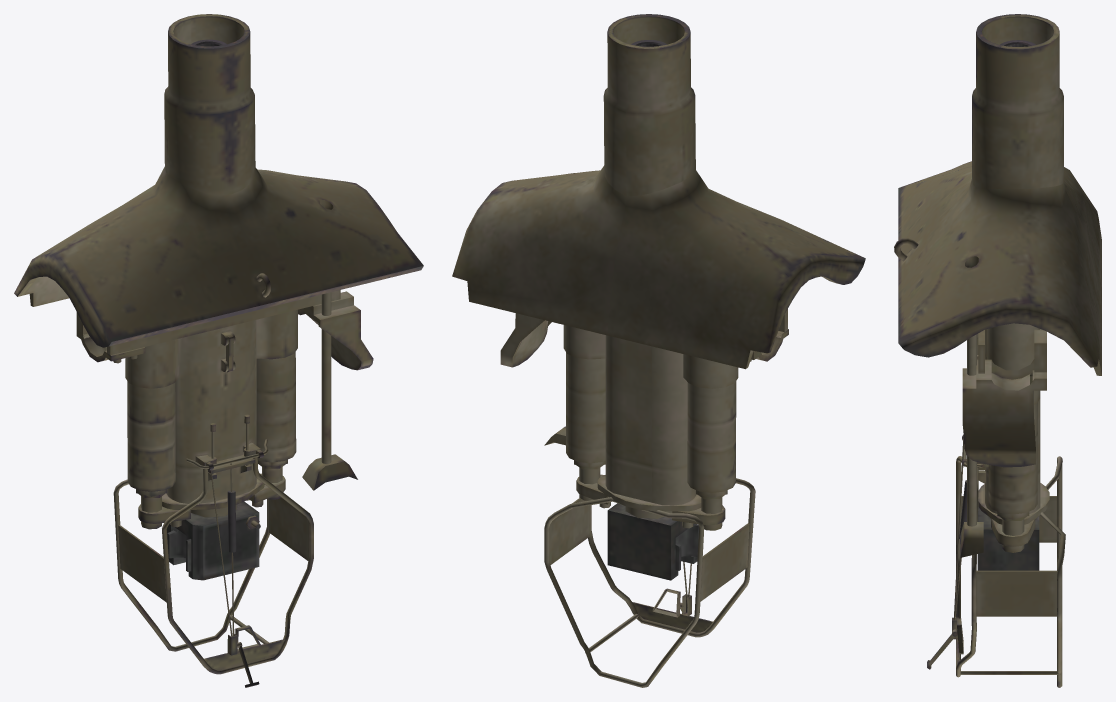
The model's file is Gun_01.glb.
3 views of the same model, side by side, from view 1: azimuth 30°, elevation 25°; view 2: azimuth 150°, elevation 25°; view 3: azimuth 270°, elevation 25° (orthographic).
Parts seen in each view (by area): view 1: set_0_group_0; view 2: set_0_group_0; view 3: set_0_group_0.
Boxes of the visible parts, x1,y1,x2,y2 form: set_0_group_0: [14, 14, 423, 687]; set_0_group_0: [452, 14, 865, 687]; set_0_group_0: [894, 14, 1101, 687].
Size of the model in its own units: 0.945 by 1.83 by 0.5343.
Materials: 1 (1 with a texture image).
